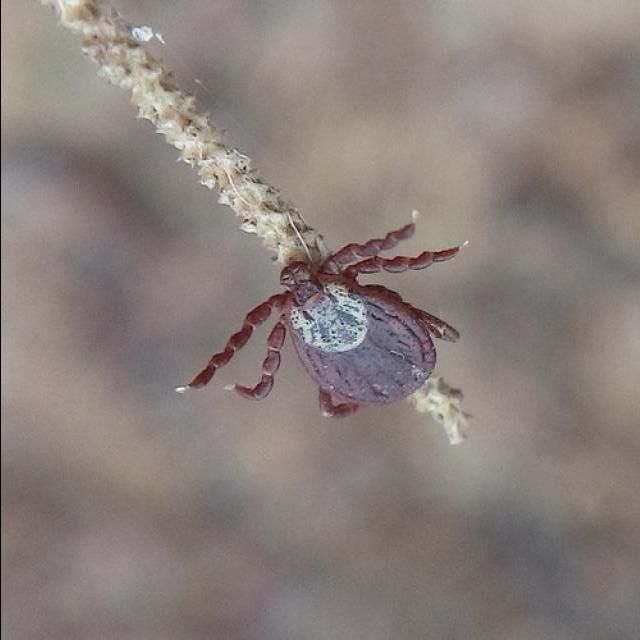Dermacentor Reticulatus-F: (189, 223, 460, 420)
